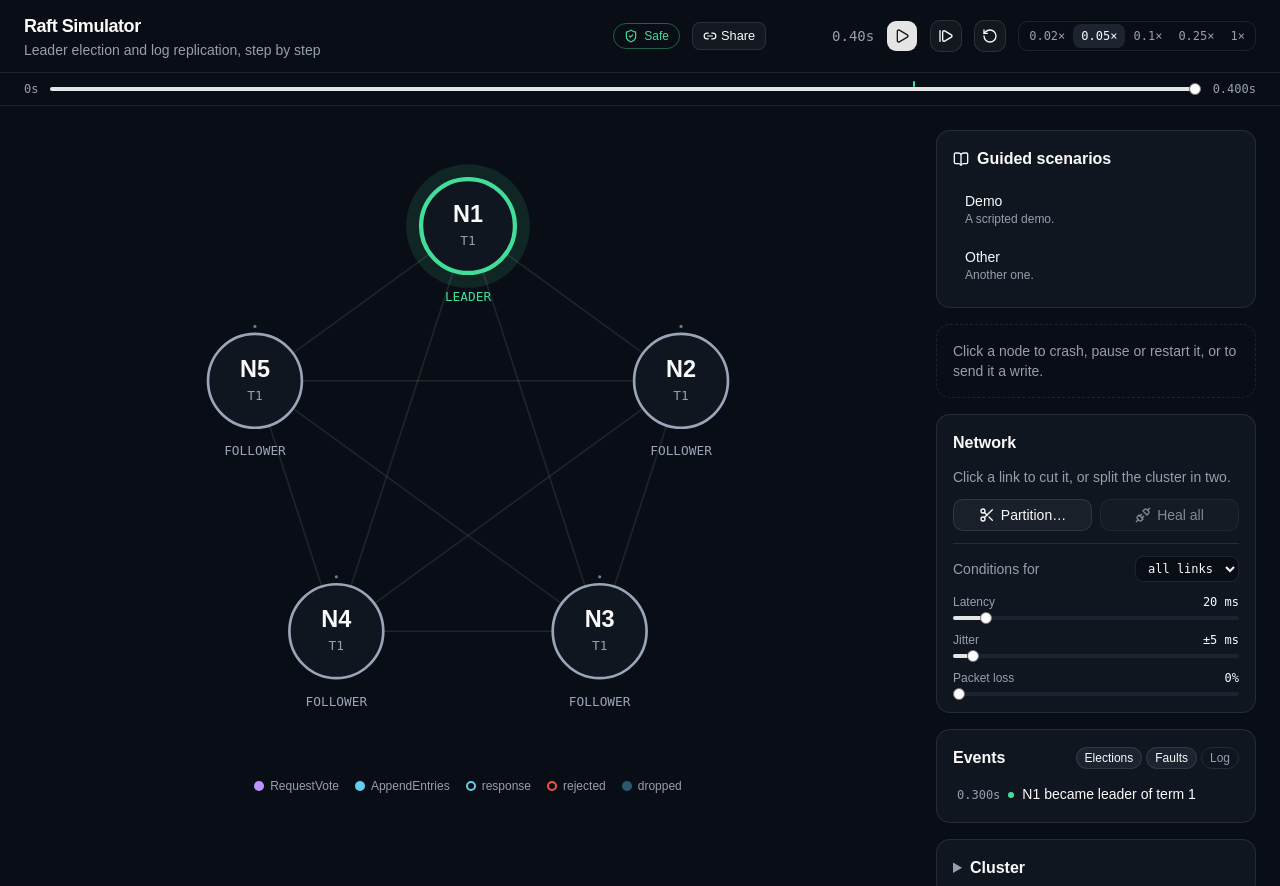
Test: applies size, seed and timings, restarting the simulation
Click the heading "Cluster" at {"x": 997, "y": 868}, box [970,859,1025,876]
(page scrolled)
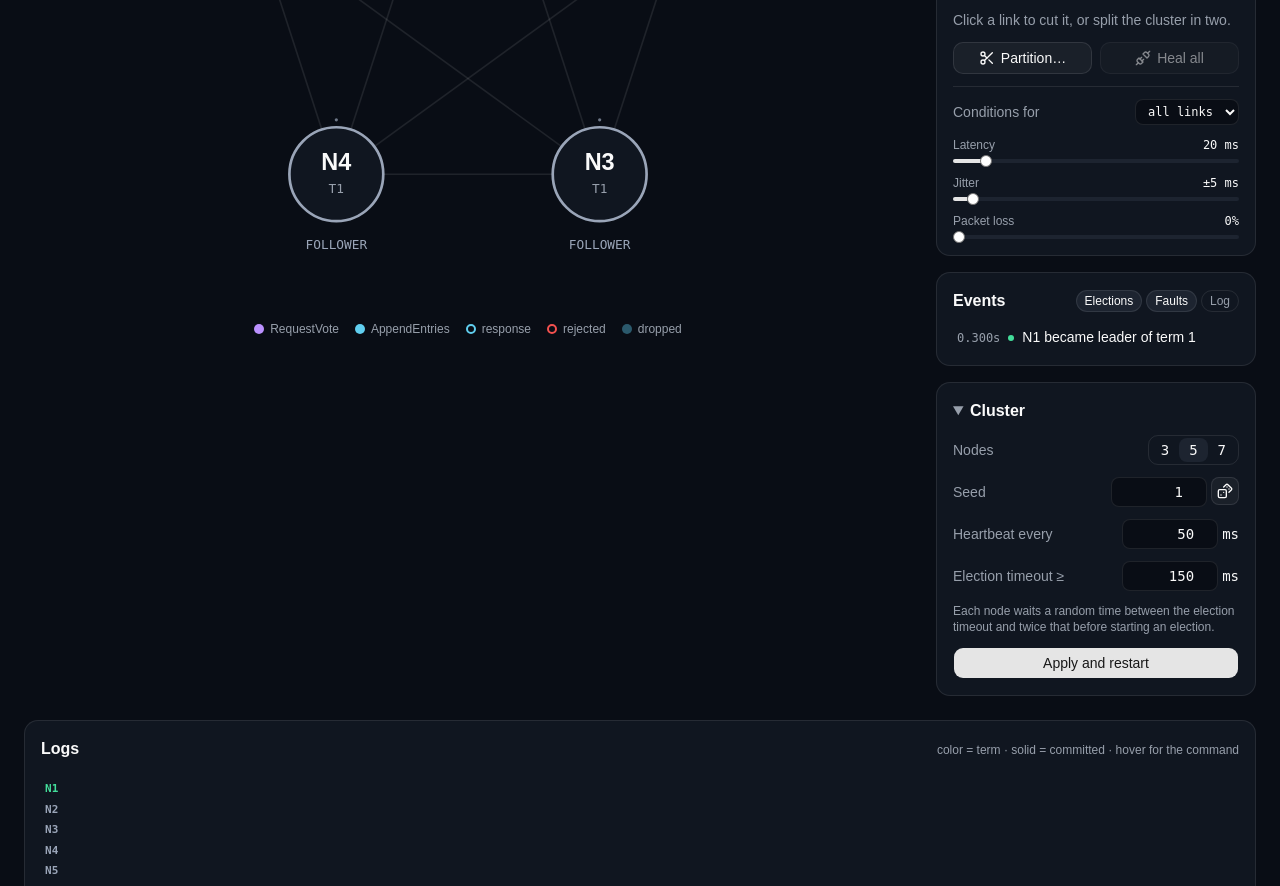
Click the button "3" at {"x": 1165, "y": 450}, box [1151,438,1179,462]
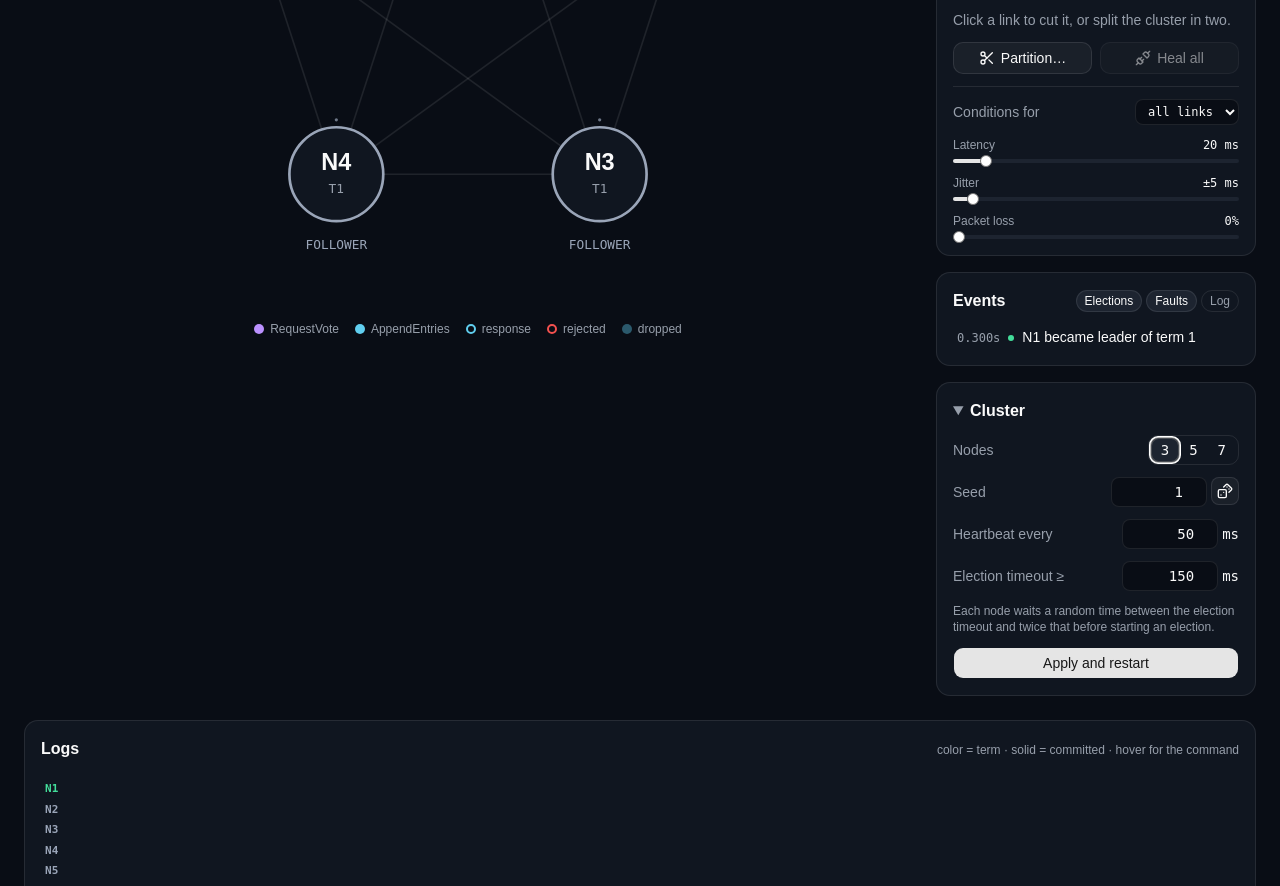
Replace the text in the number field labelled "Seed" with "42" at {"x": 1159, "y": 492}, box [1111,477,1207,507]
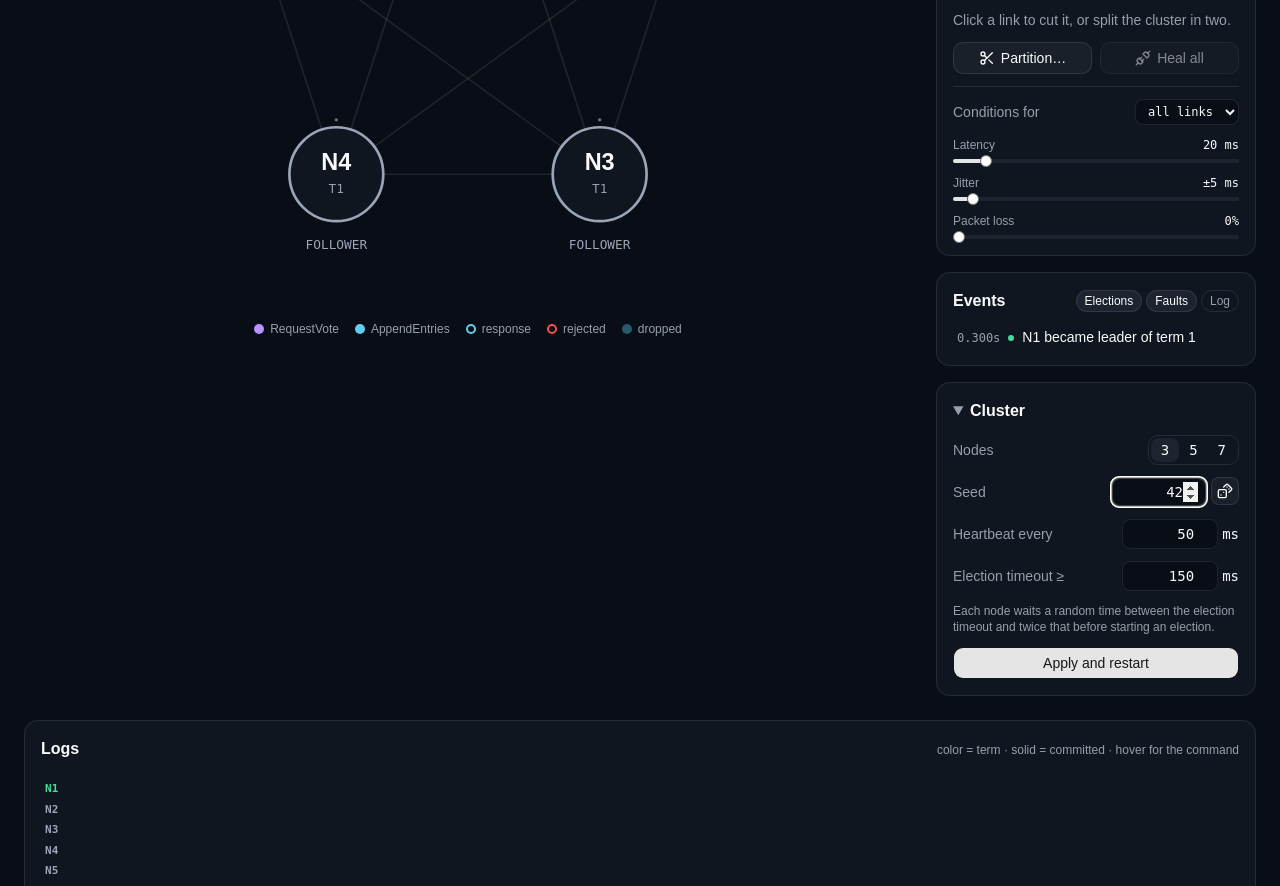
Replace the text in the number field labelled "Heartbeat every ms" with "100" at {"x": 1170, "y": 534}, box [1122,519,1218,549]
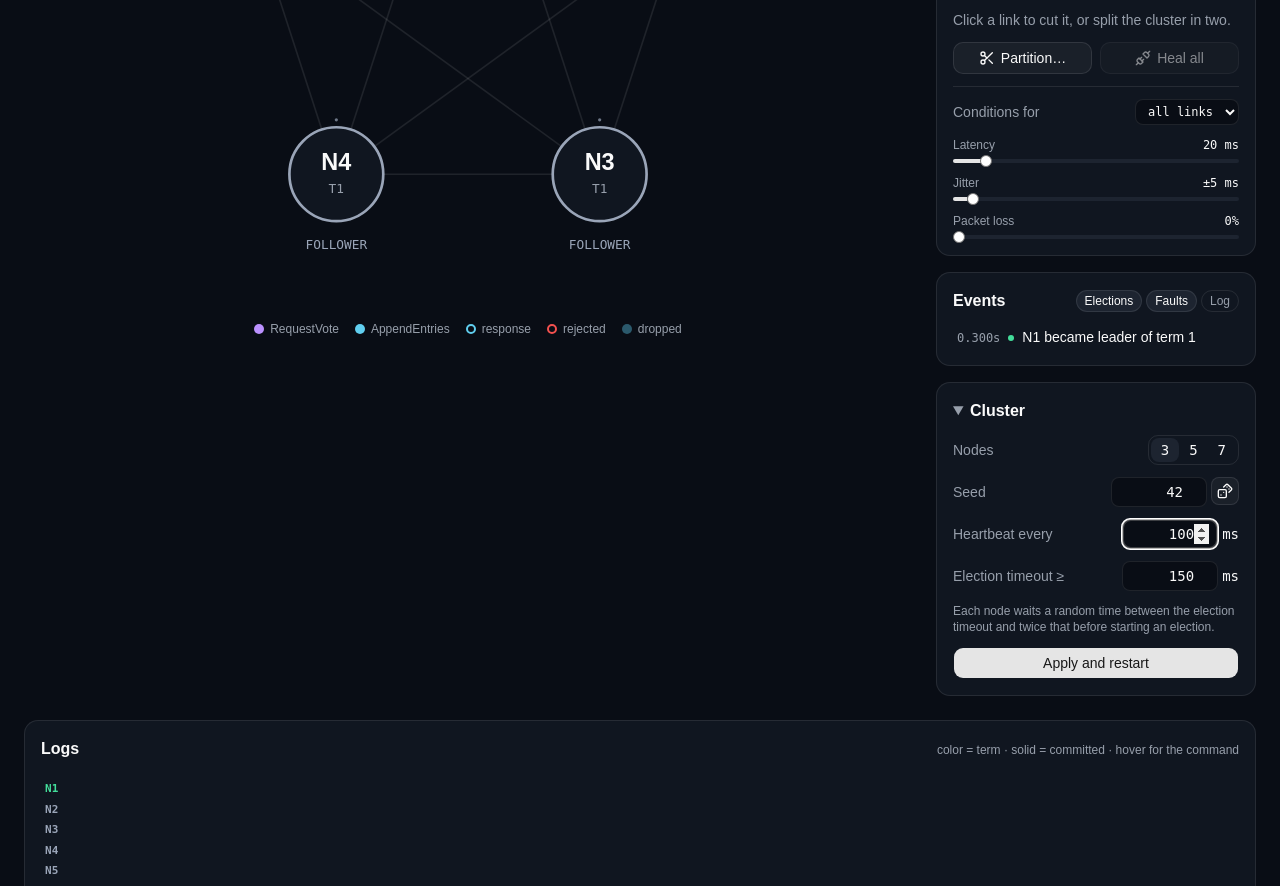
Replace the text in the number field labelled "Election timeout ≥ ms" with "400" at {"x": 1170, "y": 576}, box [1122,561,1218,591]
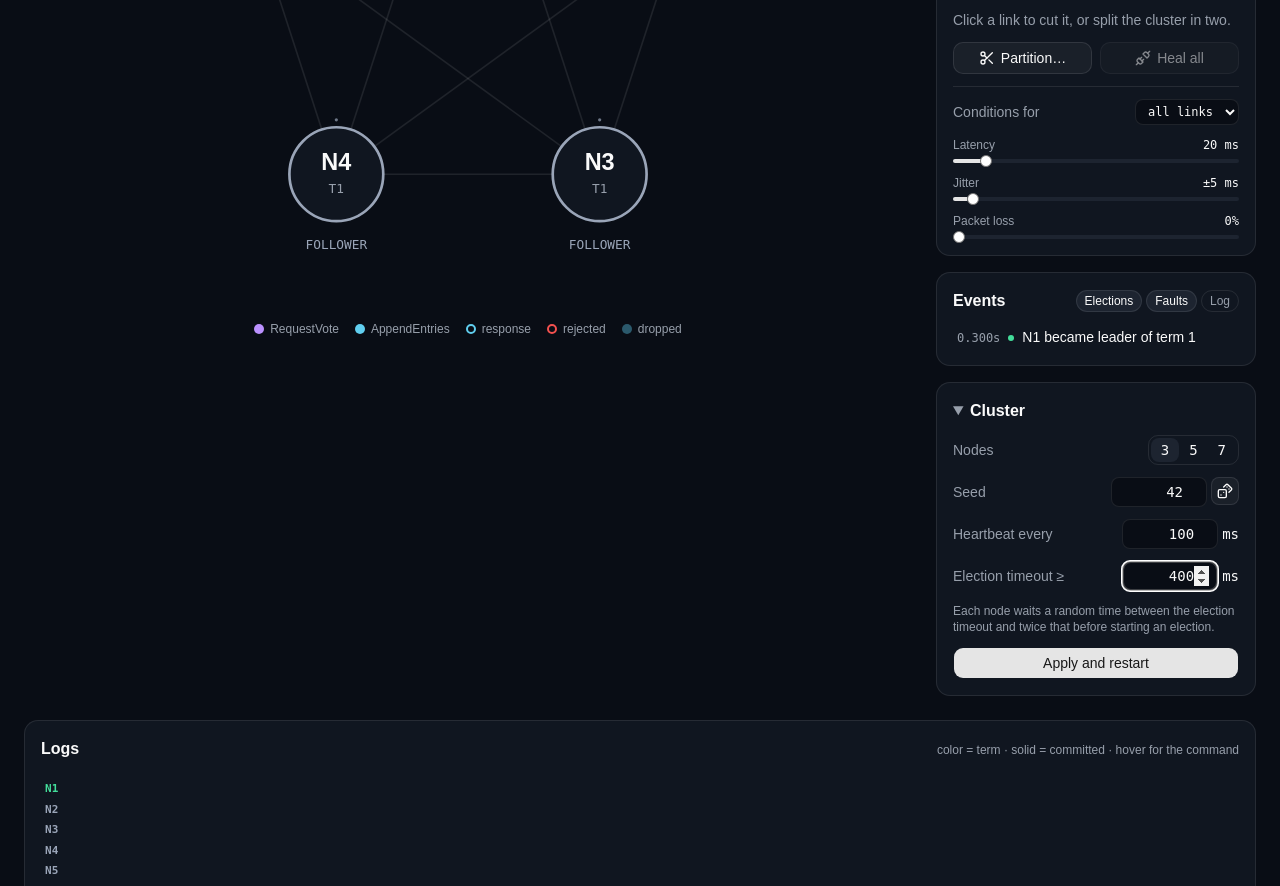
Click the button "Apply and restart" at {"x": 1096, "y": 663}, box [953,647,1239,679]
(page scrolled)
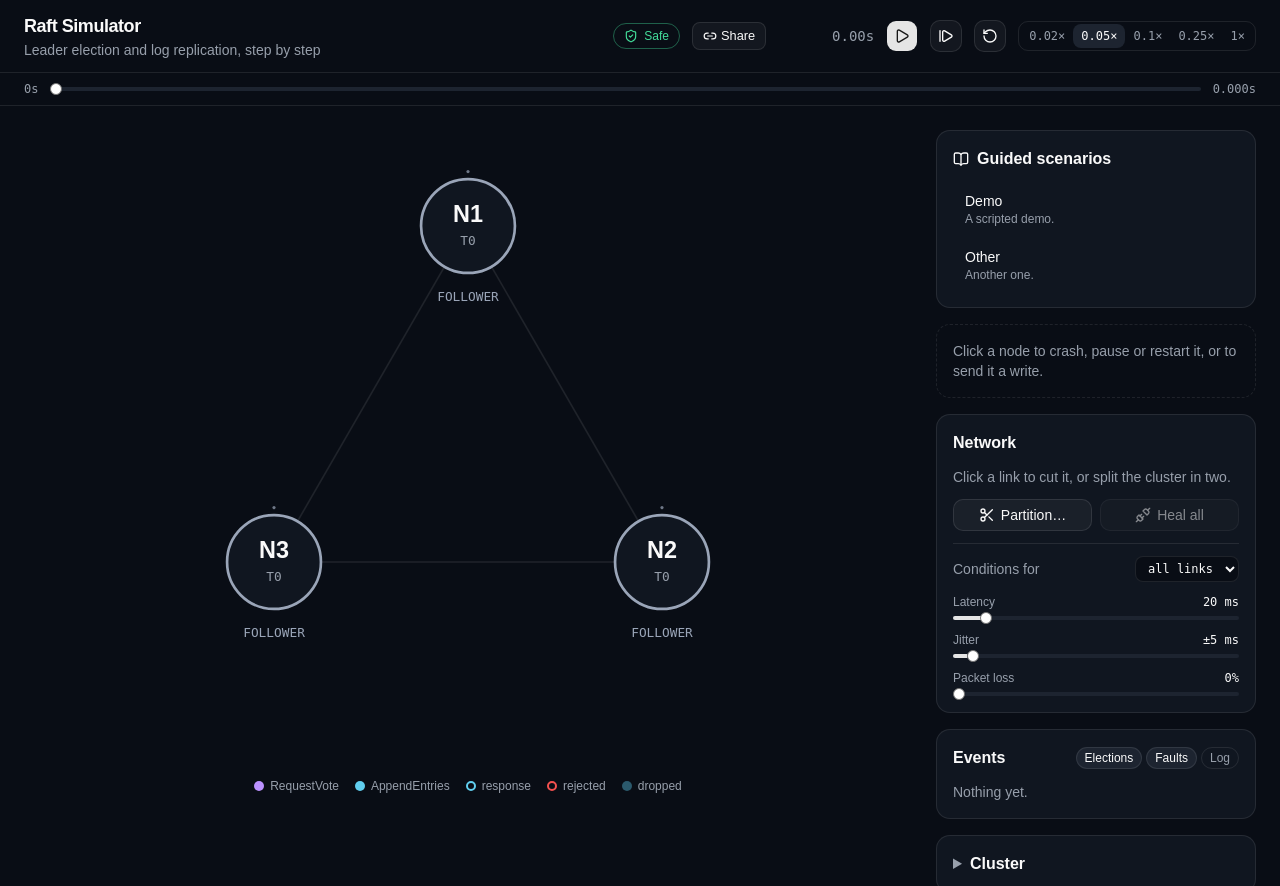
Result: the text named "Simulated time" reads "0.00s" at [832,28,874,44]
